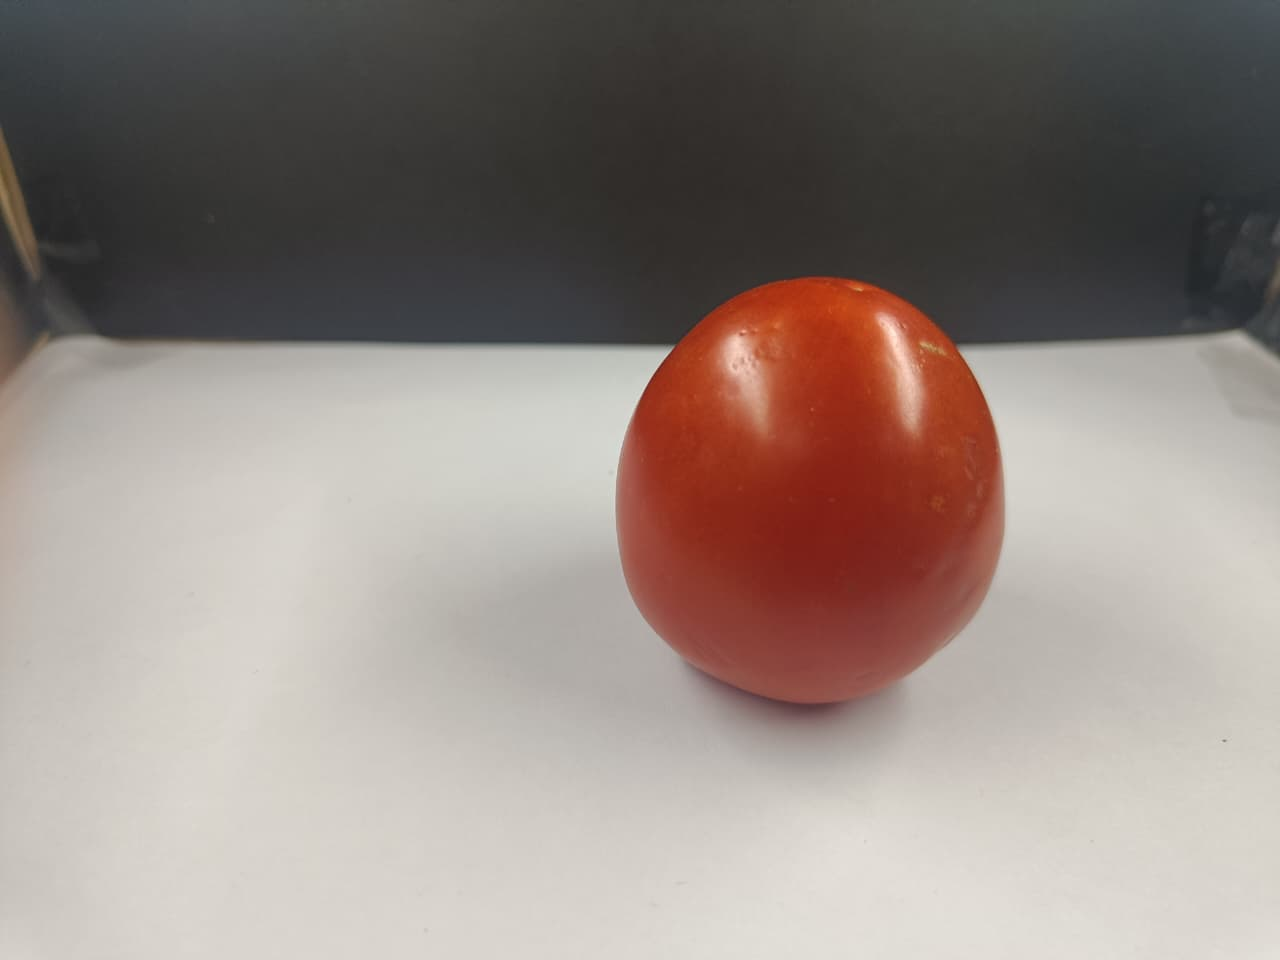ripe: (601, 256, 1018, 712)
